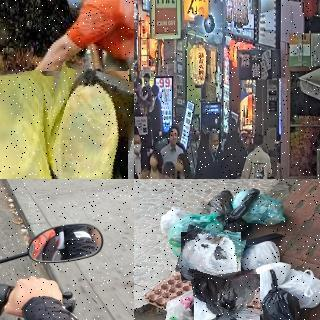Garbage: (28, 66, 134, 179), (0, 72, 60, 179), (178, 228, 244, 285), (244, 263, 320, 310), (192, 271, 261, 320), (258, 270, 310, 320), (170, 214, 229, 256), (152, 291, 230, 320), (232, 190, 287, 227), (240, 240, 284, 270), (159, 207, 193, 233)
